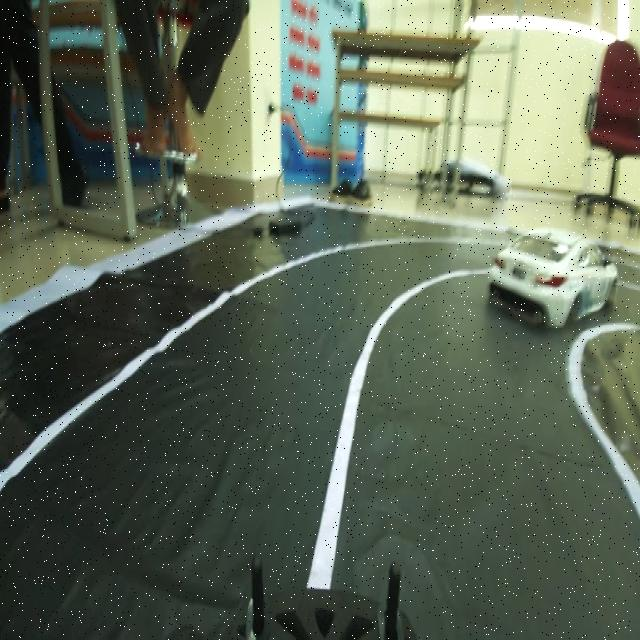car: (496, 201, 618, 352)
